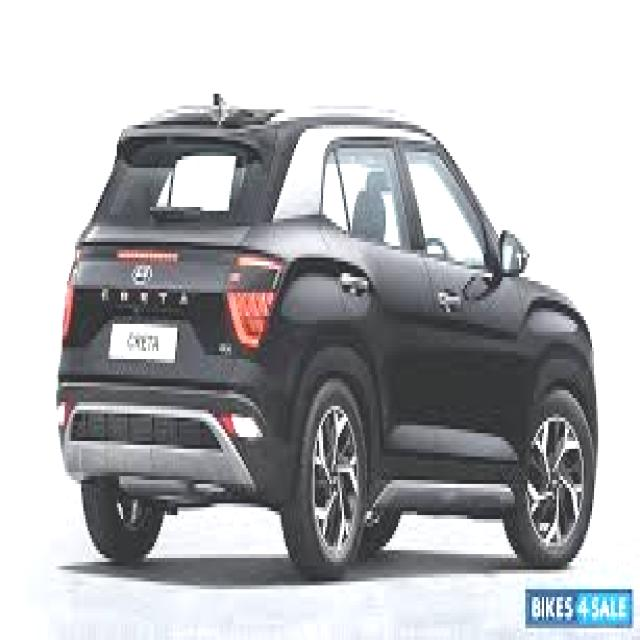SUV: (68, 94, 607, 581)
